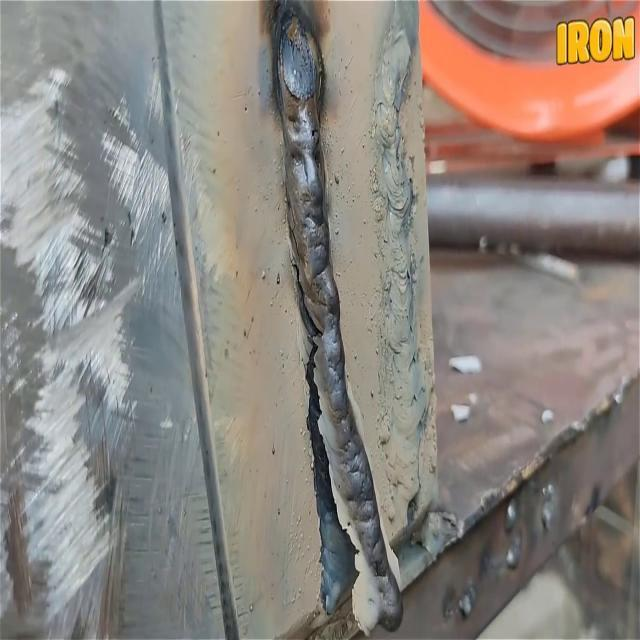Bad Welding: (276, 11, 401, 633)
Crack: (306, 344, 358, 613)
